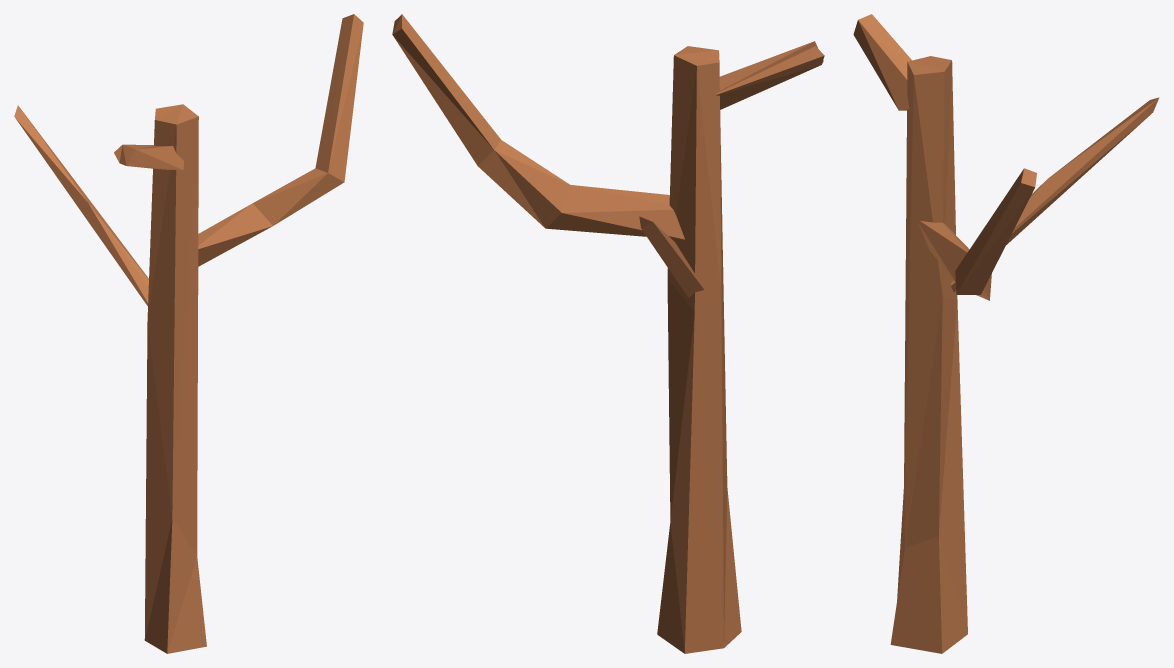
File: T Oak Tree no leaf 1.fbx
The picture shows the model from 3 angles, left to right: view 1: azimuth 30°, elevation 25°; view 2: azimuth 150°, elevation 25°; view 3: azimuth 270°, elevation 25°; orthographic projection. The views are drawn at different scales.
Visible parts, largest first — view 1: Oak Tree No Leaf 1; view 2: Oak Tree No Leaf 1; view 3: Oak Tree No Leaf 1.
Boxes of the visible parts, x1,y1,x2,y2 form: Oak Tree No Leaf 1: (14, 14, 363, 653); Oak Tree No Leaf 1: (392, 14, 824, 653); Oak Tree No Leaf 1: (853, 14, 1159, 653).
Size of the model in its own units: 292 by 471 by 222.
